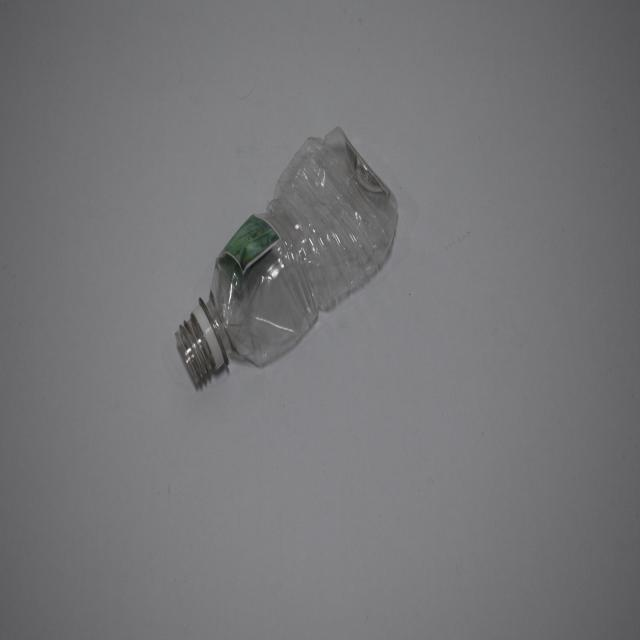plastic: (170, 118, 401, 392)
